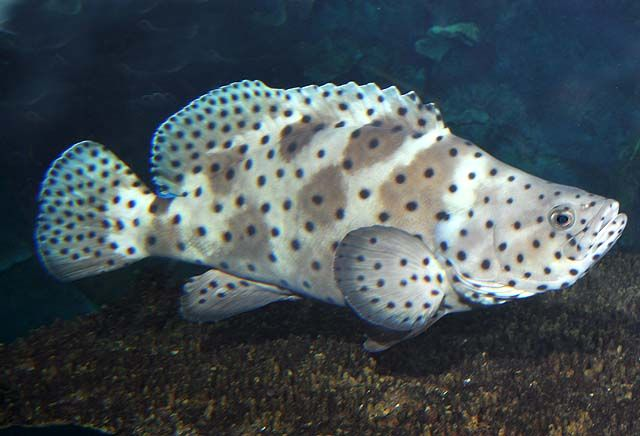fish: (35, 79, 628, 329)
